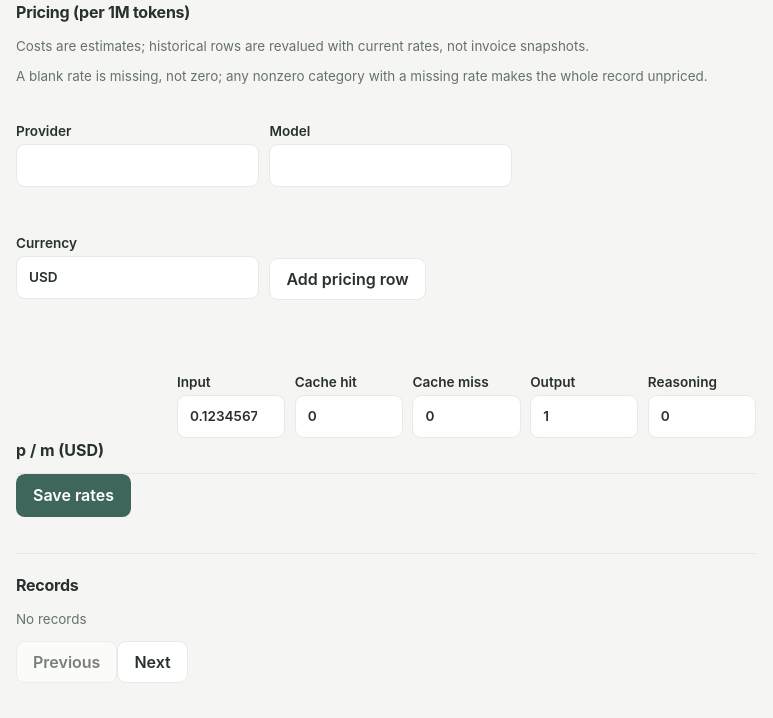
it: Usage cost accounting › pricing editor preserves decimal strings and explicit missing rate, refreshes coverage after save
(page scrolled)
Clear the number field named "m Cache hit (cacheHit)": (349, 416) x1=295 y1=395 x2=403 y2=438
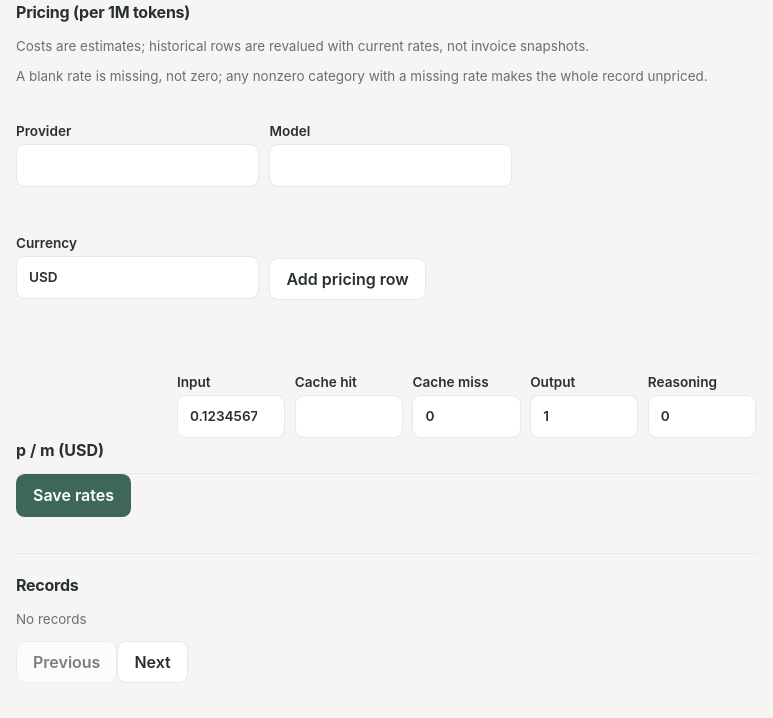
Click the button "Save rates": (74, 496) x1=16 y1=474 x2=131 y2=517
(page scrolled)
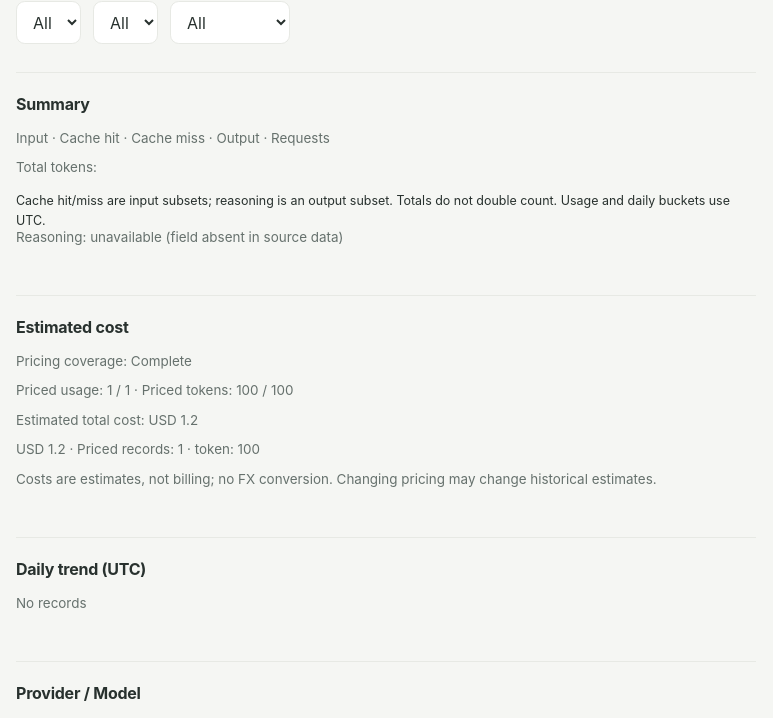
Check: the text with test id "pricing-coverage" shows "Complete", box x1=131 y1=353 x2=192 y2=369
